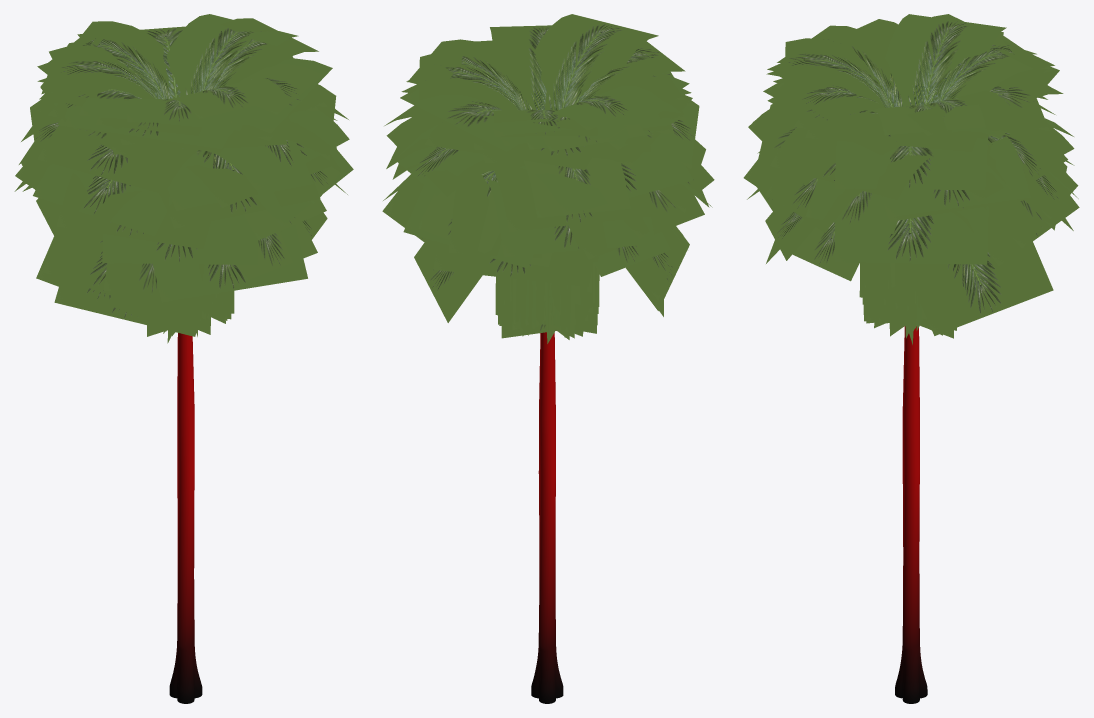
The model's file is Palm_1_8.fbx.
3 renders of one model, left to right at view 1: azimuth 30°, elevation 25°; view 2: azimuth 150°, elevation 25°; view 3: azimuth 270°, elevation 25°, orthographic.
Visible parts, largest first — view 1: Palm_1_8; view 2: Palm_1_8; view 3: Palm_1_8.
Part boxes in pixels (x1,y1,x2,y2): Palm_1_8: (14,14,353,703); Palm_1_8: (382,14,714,703); Palm_1_8: (743,14,1079,703).
Size of the model in its own units: 1768 by 3701 by 1778.
